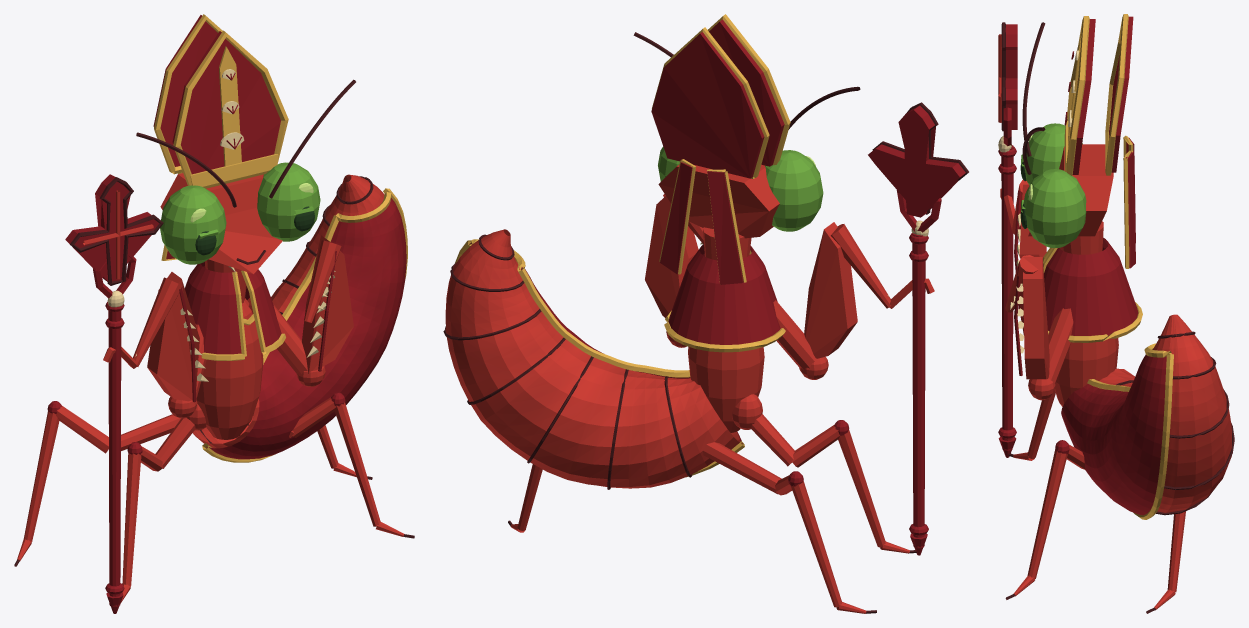
The picture shows the model from 3 angles, left to right: view 1: azimuth 30°, elevation 25°; view 2: azimuth 150°, elevation 25°; view 3: azimuth 270°, elevation 25°; orthographic projection. The views are drawn at different scales.
Parts seen in each view (by area): view 1: Louva_a_Deus_Cardinal; view 2: Louva_a_Deus_Cardinal; view 3: Louva_a_Deus_Cardinal.
Part boxes in pixels (bbox=[...]): Louva_a_Deus_Cardinal: bbox=[14, 14, 414, 613]; Louva_a_Deus_Cardinal: bbox=[443, 14, 968, 613]; Louva_a_Deus_Cardinal: bbox=[998, 14, 1234, 613].
Size of the model in its own units: 2.81 by 3.32 by 1.38.
Materials: 1 (1 with a texture image).
